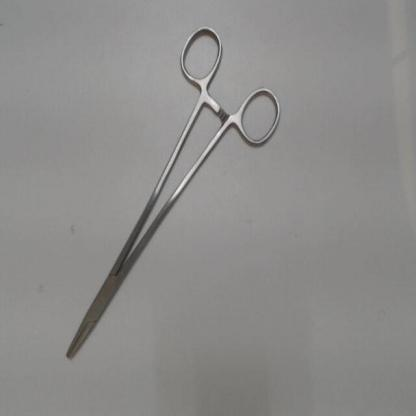8 Mayo Needle Holder: (56, 18, 289, 374)
